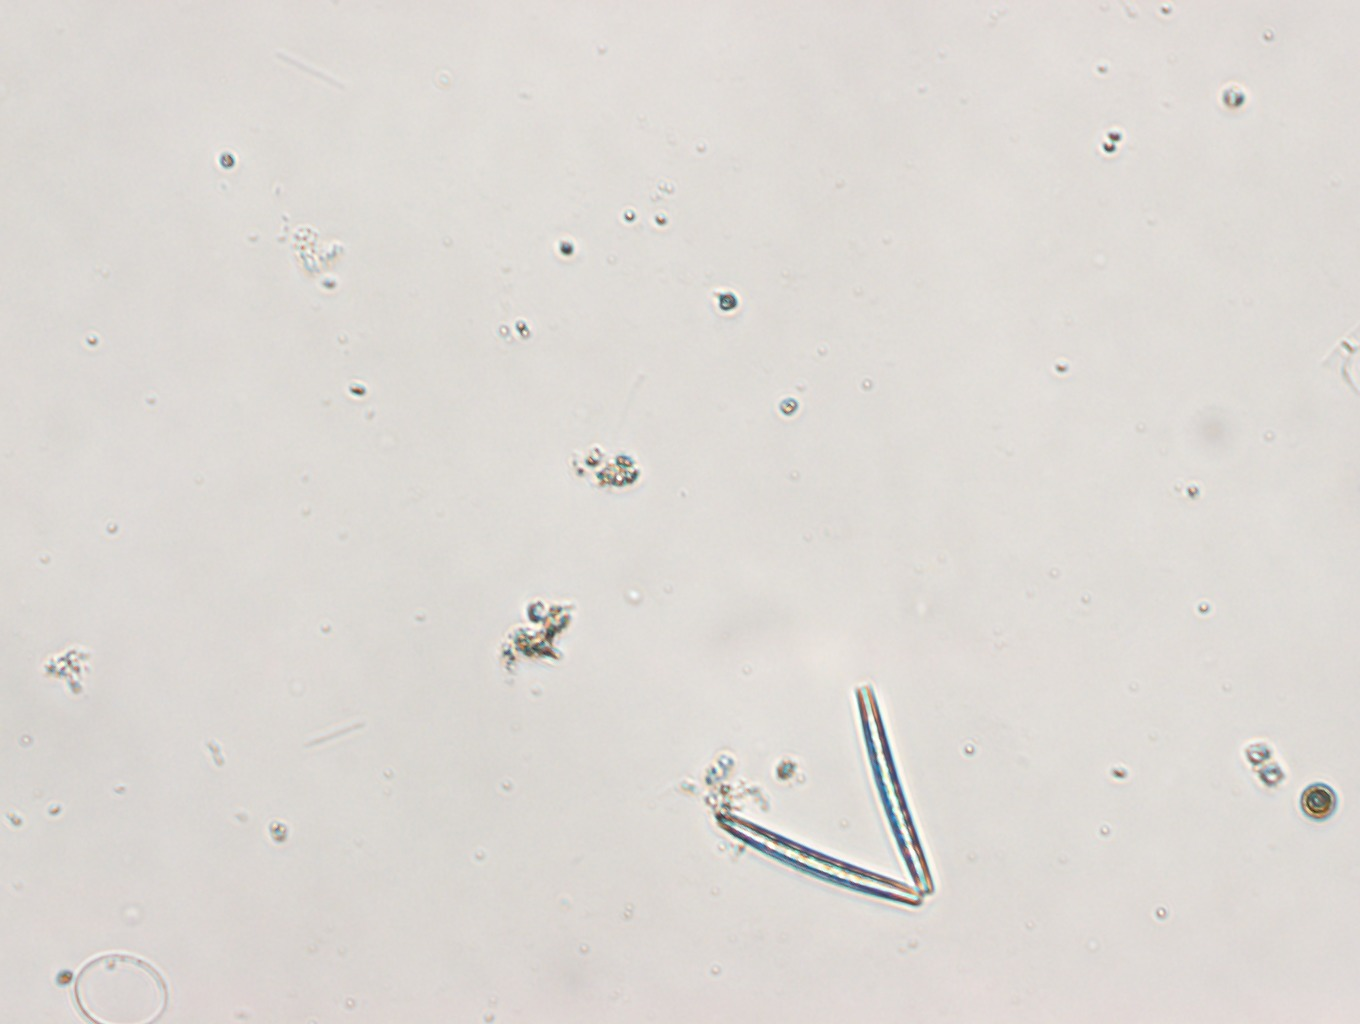thalassionema nitzschioides: (710, 680, 940, 908)
